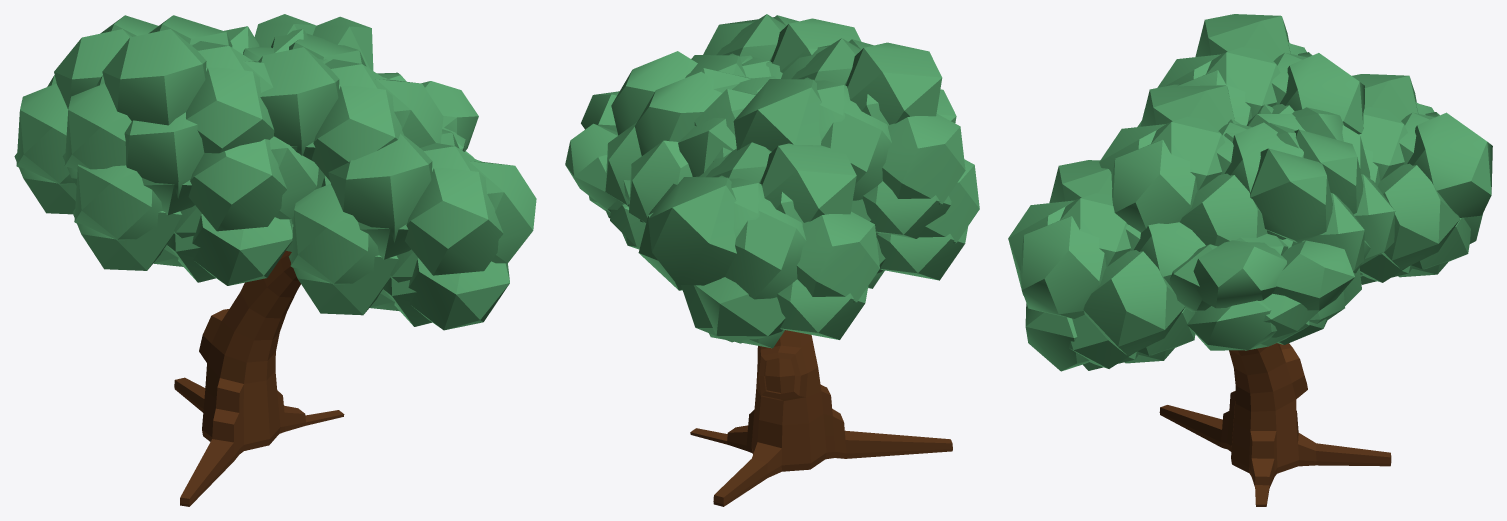
The model's file is Arvore  Bonita.fbx.
3 renders of one model, left to right at view 1: azimuth 30°, elevation 25°; view 2: azimuth 150°, elevation 25°; view 3: azimuth 270°, elevation 25°, orthographic. The views are drawn at different scales.
Parts seen in each view (by area): view 1: Folhagem .001|Folha|Dupli|, Folhagem .002|Folha|Dupli|, Folhagem .006|Folha|Dupli|, Folhagem .005|Folha|Dupli|, Tronco, Folhagem |Folha|Dupli|, Folhagem .003|Folha|Dupli|, Folhagem .007|Folha|Dupli|, Folhagem .004|Folha|Dupli|; view 2: Folhagem |Folha|Dupli|, Folhagem .006|Folha|Dupli|, Tronco, Folhagem .004|Folha|Dupli|, Folhagem .005|Folha|Dupli|, Folhagem .002|Folha|Dupli|, Folhagem .007|Folha|Dupli|, Folhagem .003|Folha|Dupli|; view 3: Folhagem .001|Folha|Dupli|, Folhagem .005|Folha|Dupli|, Folhagem |Folha|Dupli|, Folhagem .003|Folha|Dupli|, Folhagem .006|Folha|Dupli|, Tronco, Folhagem .007|Folha|Dupli|, Folhagem .004|Folha|Dupli|.
Part boxes in pixels (bbox=[...]): Folhagem .001|Folha|Dupli|: bbox=[288, 129, 536, 330]; Folhagem .002|Folha|Dupli|: bbox=[72, 112, 318, 285]; Folhagem .006|Folha|Dupli|: bbox=[62, 15, 274, 185]; Folhagem .005|Folha|Dupli|: bbox=[258, 33, 443, 224]; Tronco: bbox=[174, 250, 344, 506]; Folhagem |Folha|Dupli|: bbox=[14, 15, 158, 214]; Folhagem .003|Folha|Dupli|: bbox=[286, 72, 478, 251]; Folhagem .007|Folha|Dupli|: bbox=[271, 16, 373, 169]; Folhagem .004|Folha|Dupli|: bbox=[224, 14, 316, 61]; Folhagem |Folha|Dupli|: bbox=[638, 142, 879, 348]; Folhagem .006|Folha|Dupli|: bbox=[733, 38, 965, 238]; Tronco: bbox=[690, 330, 952, 506]; Folhagem .004|Folha|Dupli|: bbox=[629, 71, 776, 223]; Folhagem .005|Folha|Dupli|: bbox=[685, 14, 861, 78]; Folhagem .002|Folha|Dupli|: bbox=[868, 89, 979, 288]; Folhagem .007|Folha|Dupli|: bbox=[605, 51, 782, 206]; Folhagem .003|Folha|Dupli|: bbox=[565, 91, 645, 249]; Folhagem .001|Folha|Dupli|: bbox=[1008, 160, 1205, 371]; Folhagem .005|Folha|Dupli|: bbox=[1099, 84, 1303, 246]; Folhagem |Folha|Dupli|: bbox=[1352, 74, 1492, 284]; Folhagem .003|Folha|Dupli|: bbox=[1169, 233, 1370, 350]; Folhagem .006|Folha|Dupli|: bbox=[1157, 14, 1364, 134]; Tronco: bbox=[1159, 343, 1391, 506]; Folhagem .007|Folha|Dupli|: bbox=[1224, 119, 1364, 270]; Folhagem .004|Folha|Dupli|: bbox=[1246, 104, 1395, 305].
Bounding box in the file's own units: 3.84 × 4.07 × 4.36.
